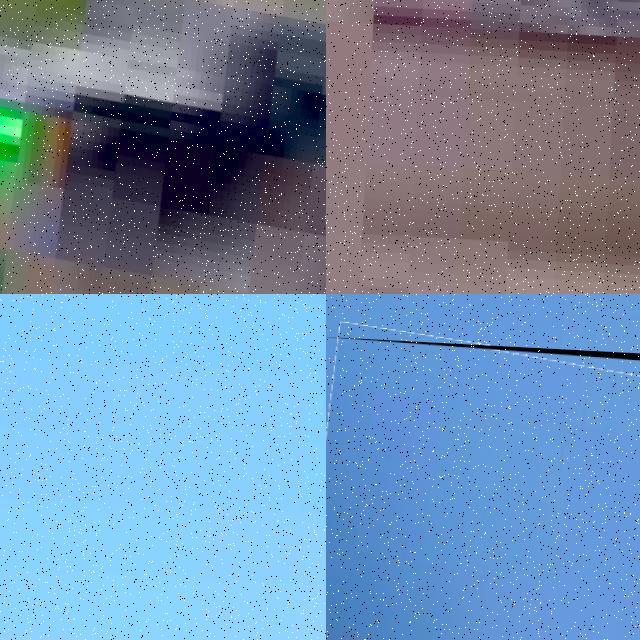drone: (0, 0, 326, 294), (326, 336, 640, 640)
